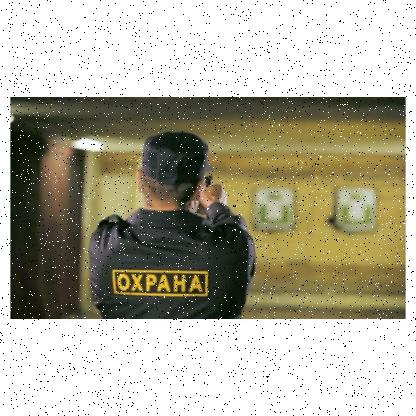gun: (201, 172, 219, 212)
